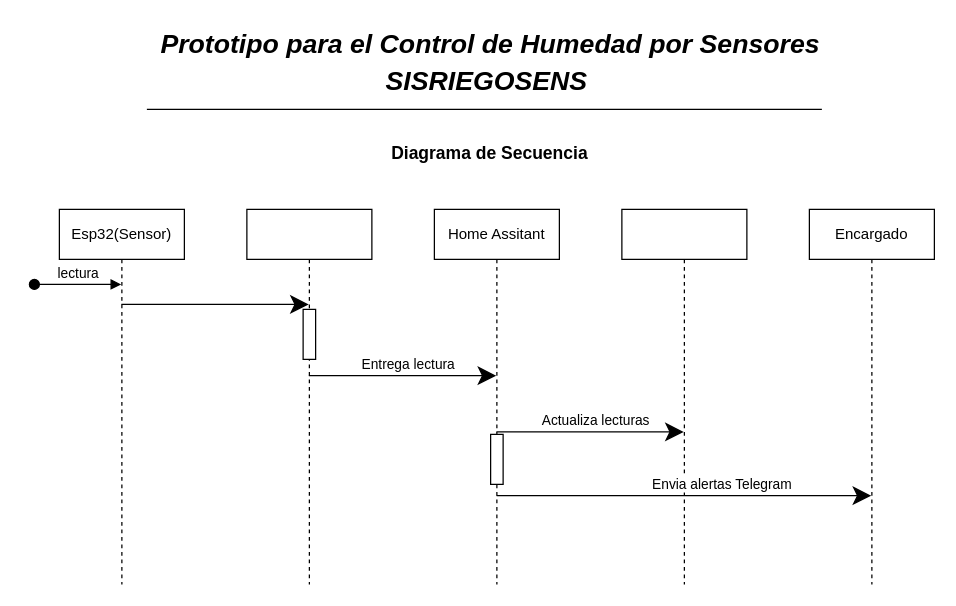
This 956x606 diagram has some shape labels left out. The centre of each missing label's shape, as x and y in pixels:
"Broker(MQTT)" goes at (309,396).
"Dashboard" goes at (684,396).
